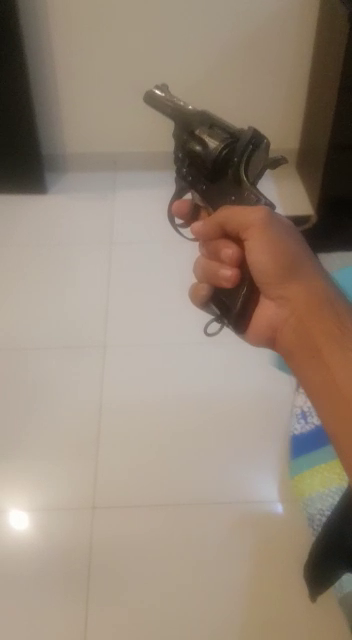handgun: (111, 68, 291, 359)
